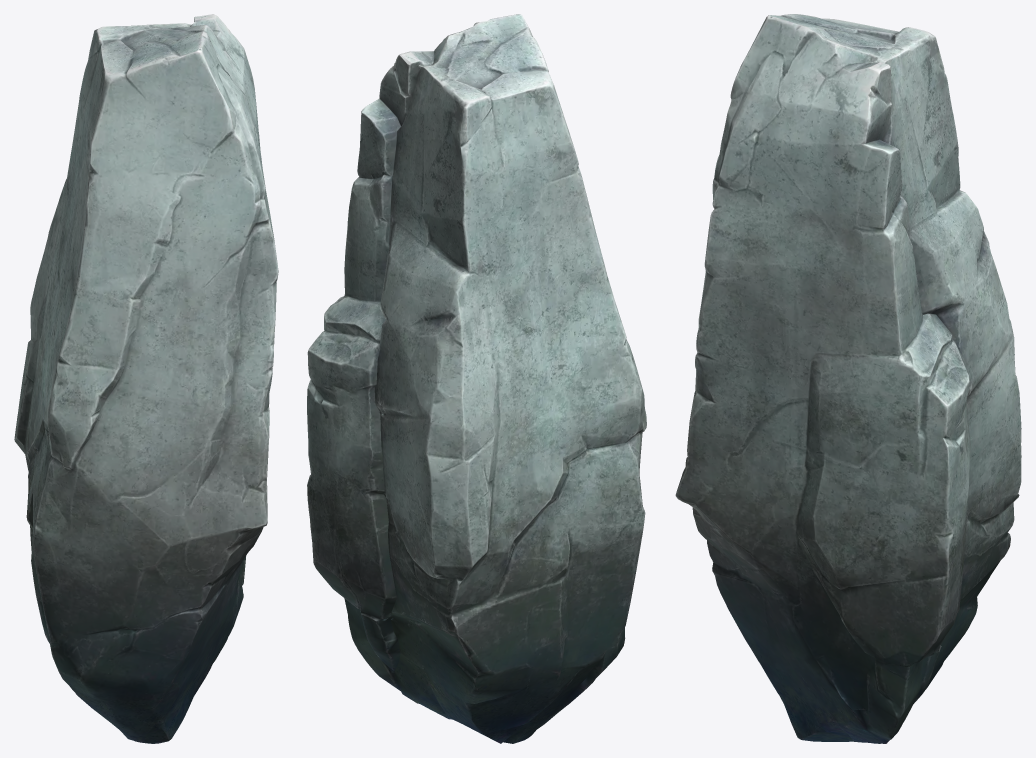
The picture shows the model from 3 angles, left to right: view 1: azimuth 30°, elevation 25°; view 2: azimuth 150°, elevation 25°; view 3: azimuth 270°, elevation 25°; orthographic projection. The views are drawn at different scales.
Parts seen in each view (by area): view 1: SM_Stone_Arch_01v1_LOD0; view 2: SM_Stone_Arch_01v1_LOD0; view 3: SM_Stone_Arch_01v1_LOD0.
Part boxes in pixels (left/top/right/bottom): SM_Stone_Arch_01v1_LOD0: left=14, top=14, right=278, bottom=743; SM_Stone_Arch_01v1_LOD0: left=307, top=14, right=646, bottom=743; SM_Stone_Arch_01v1_LOD0: left=675, top=14, right=1021, bottom=743.
Bounding box in the file's own units: 4.98 × 12.14 × 5.16.
1 material, 1 textured.
